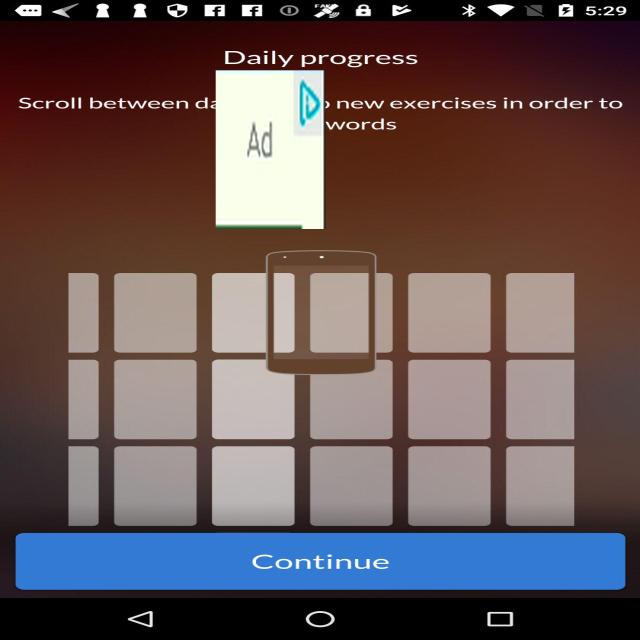sneaking: (216, 70, 325, 229)
